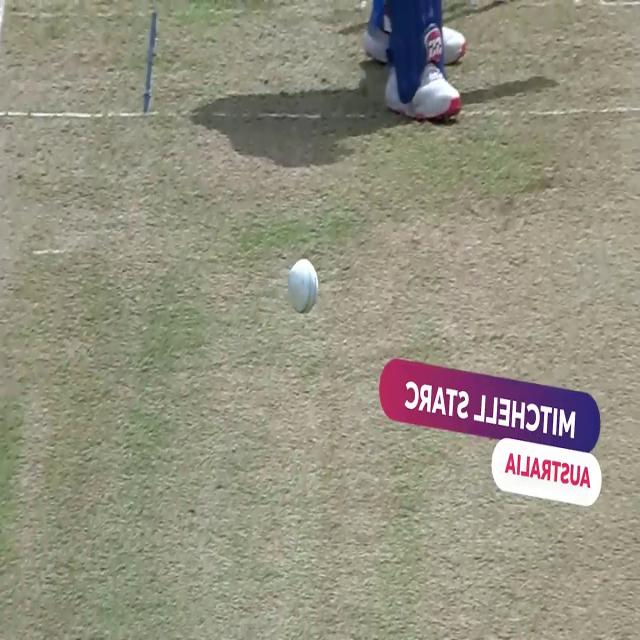ball: (279, 255, 323, 317)
